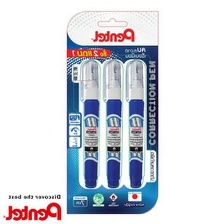book: (64, 8, 161, 216)
correction_fluid: (99, 58, 123, 189), (78, 58, 101, 190), (123, 58, 145, 189)
